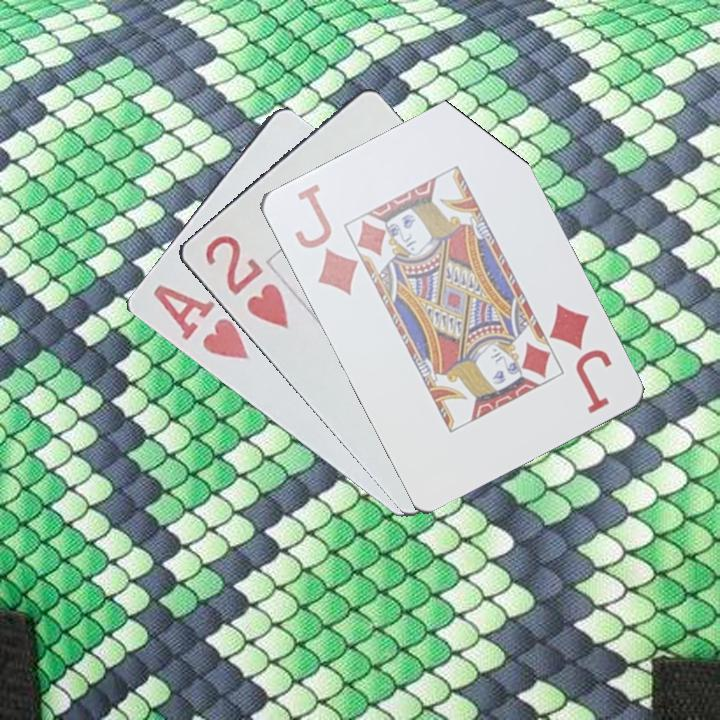2h: (200, 231, 291, 333)
Ah: (149, 281, 251, 363)
Jd: (290, 180, 360, 299), (545, 299, 615, 417)
